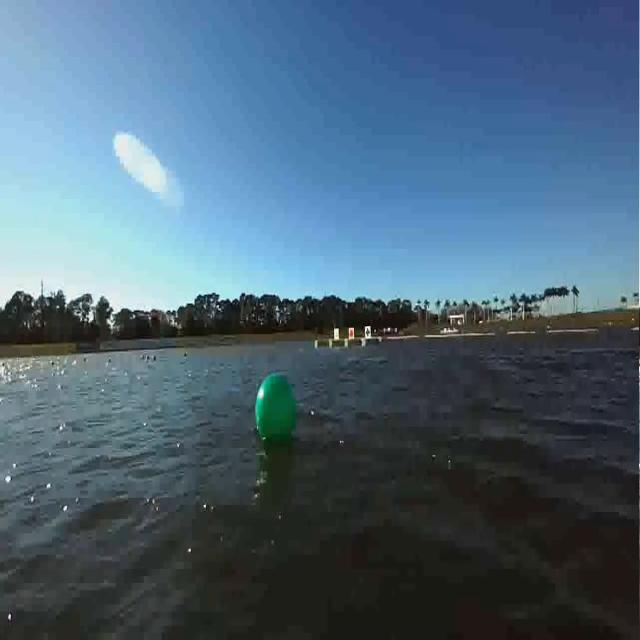green-buoy: (256, 373, 298, 444)
